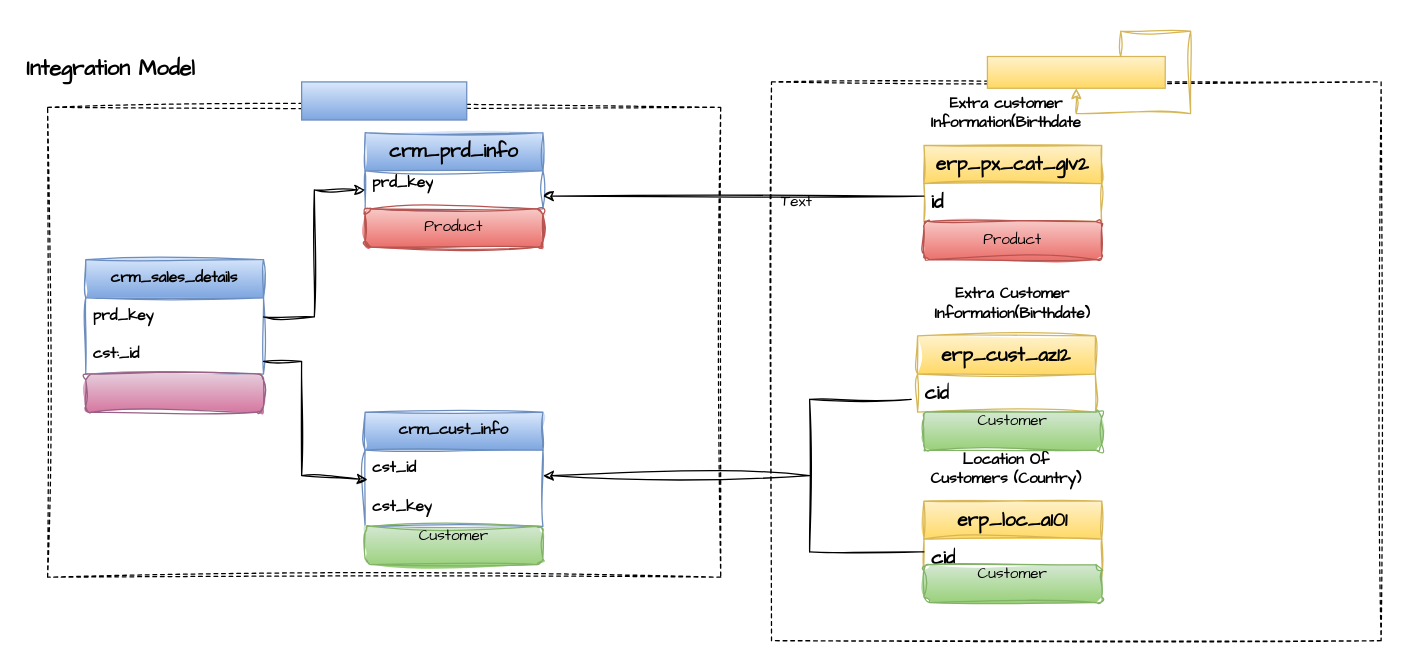
The diagram is 1403 pixels wide and 663 high, and some of its shapes have lost their labels. Here are the shapes that lost their labels. From the top down, the centre of each, then its label:
[1075,71]: ERP
[383,100]: CRM
[174,392]: Sales
